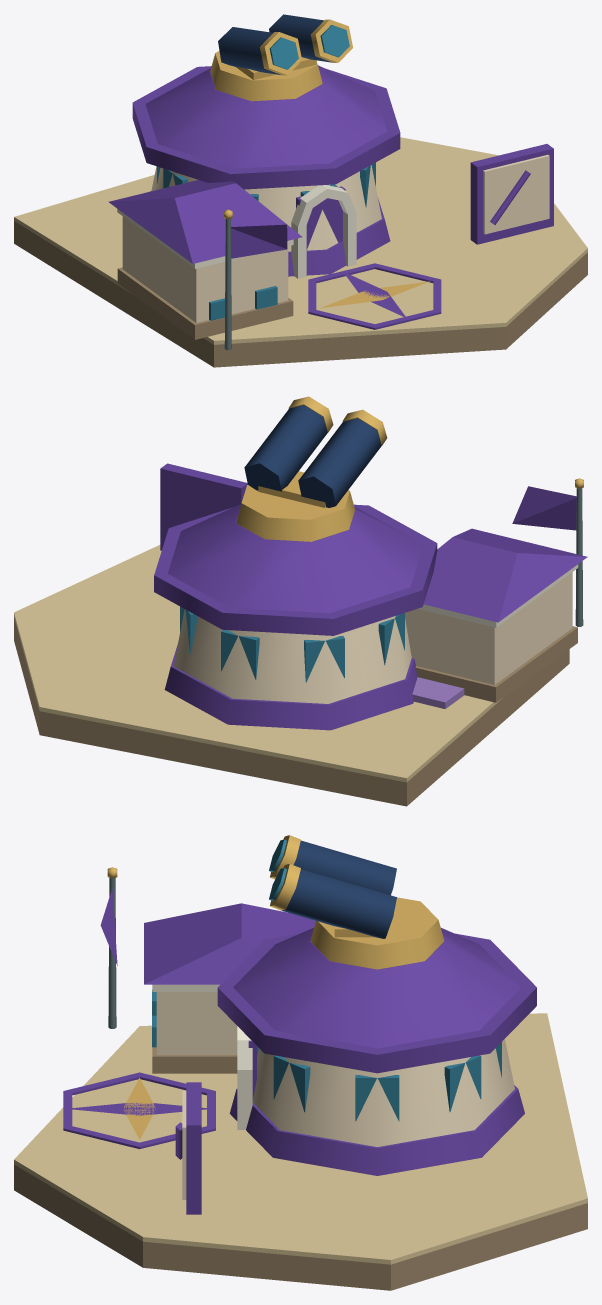
Rendered from scout-center-lv2.glb.
3 views of the same model, one above another, from view 1: azimuth 30°, elevation 25°; view 2: azimuth 150°, elevation 25°; view 3: azimuth 270°, elevation 25° (orthographic). The views are drawn at different scales.
Parts seen in each view (by area): view 1: foundation_sand, faceted_roof_violet, foundation_stoneDark, archive_wing_cream, observation_eave_violet, archive_wing_roof_violet, map_board_cream, octagonal_office_cream, archive_wing_stoneDark, roof_binoculars_naval, optic_pedestal_gold, map_board_violet (+12 smaller); view 2: foundation_sand, faceted_roof_violet, foundation_stoneDark, octagonal_office_cream, archive_wing_cream, archive_wing_roof_violet, observation_eave_violet, roof_binoculars_naval, office_plinth_violet, optic_pedestal_gold, map_board_violet, office_windows_glass (+7 smaller); view 3: foundation_sand, faceted_roof_violet, octagonal_office_cream, foundation_stoneDark, observation_eave_violet, archive_wing_roof_violet, office_plinth_violet, roof_binoculars_naval, optic_pedestal_gold, archive_wing_cream, compass_violet, office_windows_glass (+8 smaller).
Boxes of the visible parts, x1,y1,x2,y2 form: foundation_sand: [14, 137, 587, 344]; faceted_roof_violet: [145, 65, 387, 168]; foundation_stoneDark: [14, 221, 587, 367]; archive_wing_cream: [122, 216, 288, 322]; observation_eave_violet: [132, 66, 400, 189]; archive_wing_roof_violet: [108, 180, 302, 263]; map_board_cream: [483, 154, 549, 234]; octagonal_office_cream: [151, 165, 381, 251]; archive_wing_stoneDark: [117, 267, 293, 339]; roof_binoculars_naval: [218, 14, 332, 74]; optic_pedestal_gold: [210, 51, 322, 101]; map_board_violet: [470, 144, 553, 244]; foundation_sand: [14, 545, 502, 782]; faceted_roof_violet: [168, 504, 423, 613]; foundation_stoneDark: [14, 617, 569, 806]; octagonal_office_cream: [173, 609, 411, 703]; archive_wing_cream: [405, 572, 572, 684]; archive_wing_roof_violet: [424, 528, 587, 622]; observation_eave_violet: [154, 504, 437, 635]; roof_binoculars_naval: [244, 405, 381, 507]; office_plinth_violet: [164, 644, 417, 730]; optic_pedestal_gold: [236, 485, 354, 541]; map_board_violet: [160, 463, 247, 550]; office_windows_glass: [180, 606, 404, 682]; foundation_sand: [14, 1013, 587, 1264]; faceted_roof_violet: [233, 928, 521, 1048]; octagonal_office_cream: [252, 1039, 514, 1146]; foundation_stoneDark: [14, 1164, 587, 1290]; observation_eave_violet: [217, 933, 536, 1073]; archive_wing_roof_violet: [144, 903, 315, 984]; office_plinth_violet: [229, 1085, 524, 1175]; roof_binoculars_naval: [282, 840, 396, 938]; optic_pedestal_gold: [310, 897, 444, 969]; archive_wing_cream: [156, 992, 237, 1054]; compass_violet: [63, 1072, 215, 1149]; office_windows_glass: [257, 1042, 501, 1121].
Size of the model in its own units: 1 by 0.5571 by 0.9826.
